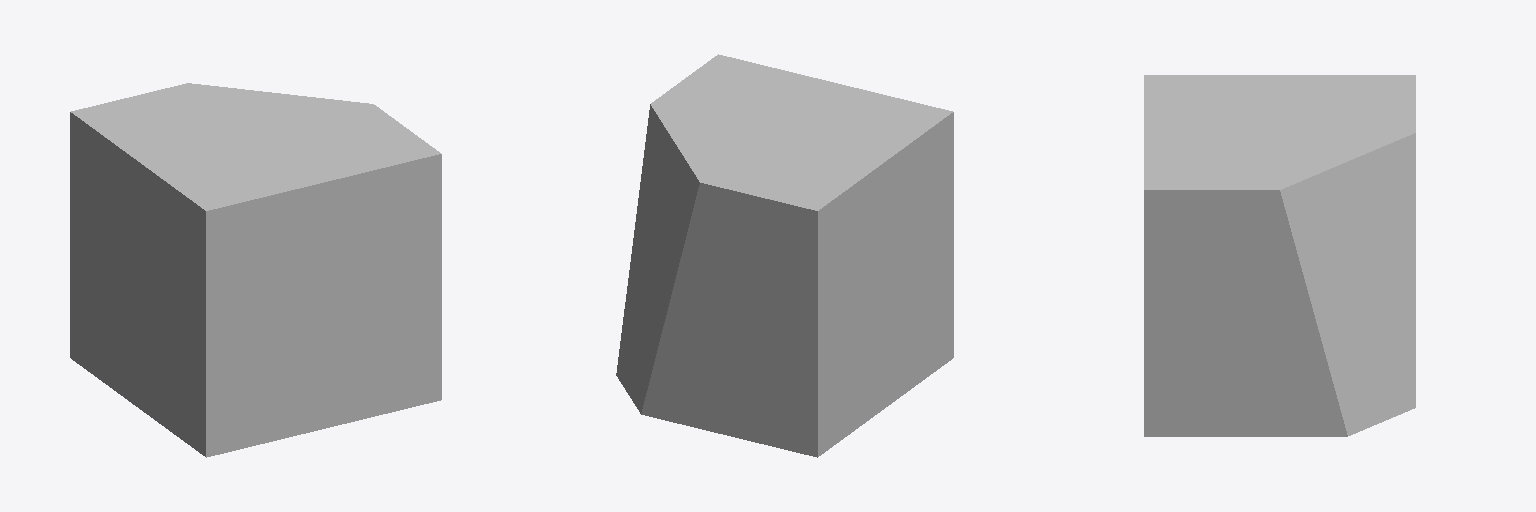
Rendered from bevelled_corner_c2.obj.
The picture shows the model from 3 angles: view 1: azimuth 30°, elevation 25°; view 2: azimuth 150°, elevation 25°; view 3: azimuth 270°, elevation 25°; orthographic projection.
Visible parts, largest first — view 1: bevelledcornerc2_face0-texture:1_Bevelled_Corner_C2; view 2: bevelledcornerc2_face0-texture:1_Bevelled_Corner_C2, bevelledcornerc2_face1-texture:2_Bevelled_Corner_C2.001; view 3: bevelledcornerc2_face0-texture:1_Bevelled_Corner_C2, bevelledcornerc2_face1-texture:2_Bevelled_Corner_C2.001.
Boxes of the visible parts, x1=… form: bevelledcornerc2_face0-texture:1_Bevelled_Corner_C2: x1=70, y1=83, x2=441, y2=457; bevelledcornerc2_face0-texture:1_Bevelled_Corner_C2: x1=641, y1=54, x2=953, y2=457; bevelledcornerc2_face1-texture:2_Bevelled_Corner_C2.001: x1=616, y1=104, x2=699, y2=413; bevelledcornerc2_face0-texture:1_Bevelled_Corner_C2: x1=1144, y1=75, x2=1415, y2=436; bevelledcornerc2_face1-texture:2_Bevelled_Corner_C2.001: x1=1280, y1=133, x2=1415, y2=435.
Bounding box in the file's own units: 1 × 1 × 1.